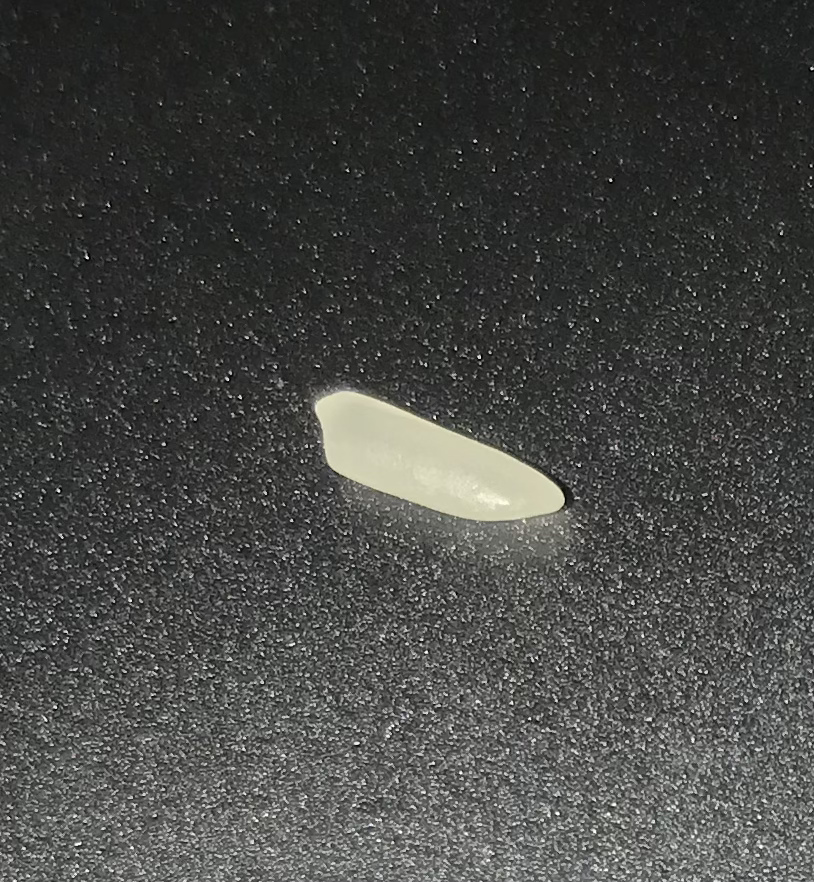Gao Thom My: (286, 378, 578, 536)
